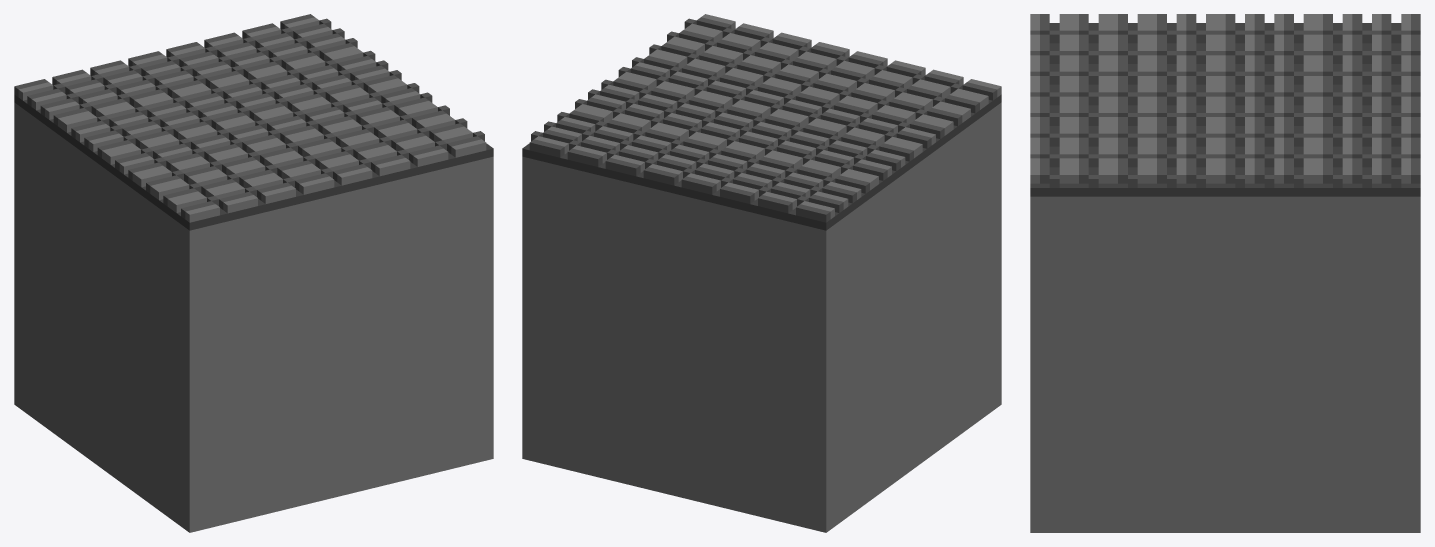
Rendered from MazeFloorGO.vox.obj.
3 renders of one model, left to right at view 1: azimuth 30°, elevation 25°; view 2: azimuth 150°, elevation 25°; view 3: azimuth 270°, elevation 25°, orthographic. The views are drawn at different scales.
Bounding box in the file's own units: 4 × 4 × 4.
1 material, 1 textured.
